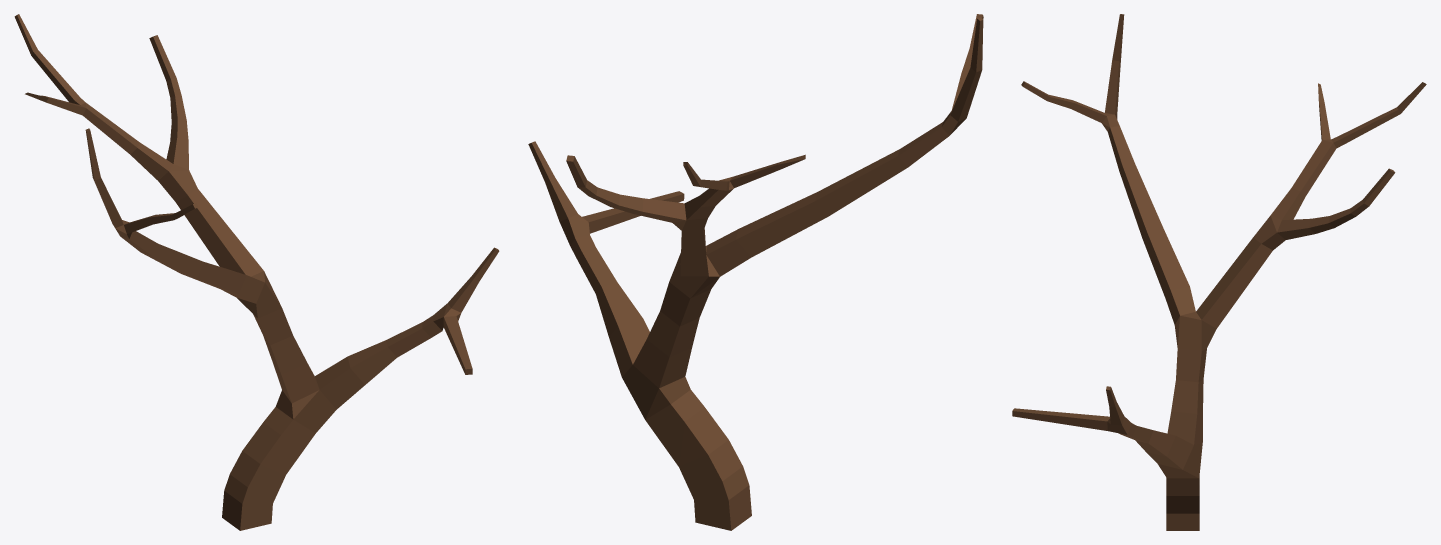
File: mesh_bush_ded_01.fbx
The picture shows the model from 3 angles, left to right: view 1: azimuth 30°, elevation 25°; view 2: azimuth 150°, elevation 25°; view 3: azimuth 270°, elevation 25°; orthographic projection. The views are drawn at different scales.
Visible parts, largest first — view 1: mesh_bush_ded_01; view 2: mesh_bush_ded_01; view 3: mesh_bush_ded_01.
Boxes of the visible parts, x1=… form: mesh_bush_ded_01: x1=14, y1=14, x2=499, y2=530; mesh_bush_ded_01: x1=528, y1=14, x2=983, y2=530; mesh_bush_ded_01: x1=1012, y1=14, x2=1426, y2=530.
Size of the model in its own units: 78.43 by 85.48 by 75.74.
